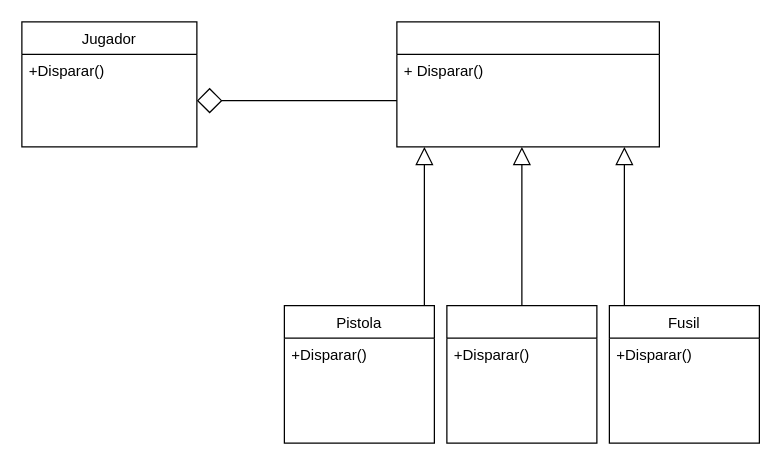
This 781x469 diagram has some shape labels left out. Each missing label, with the box of its shape:
Arma: (396, 21, 659, 147)
Bazooka: (446, 304, 597, 443)
